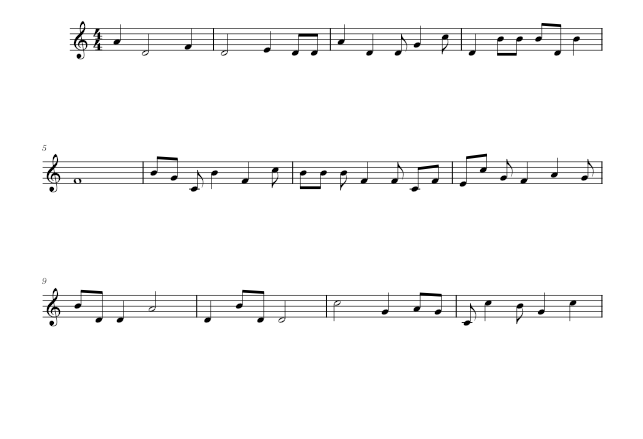Treble Clef: (42, 151, 66, 197), (42, 285, 66, 331), (69, 16, 91, 64)
